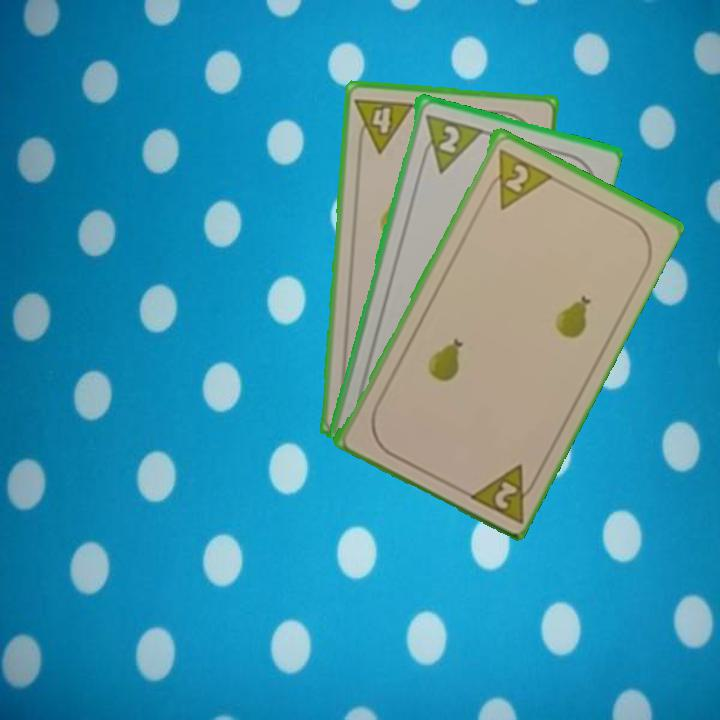2p: (462, 459, 543, 525), (481, 145, 553, 212), (415, 110, 483, 175)
4p: (352, 94, 417, 156)
